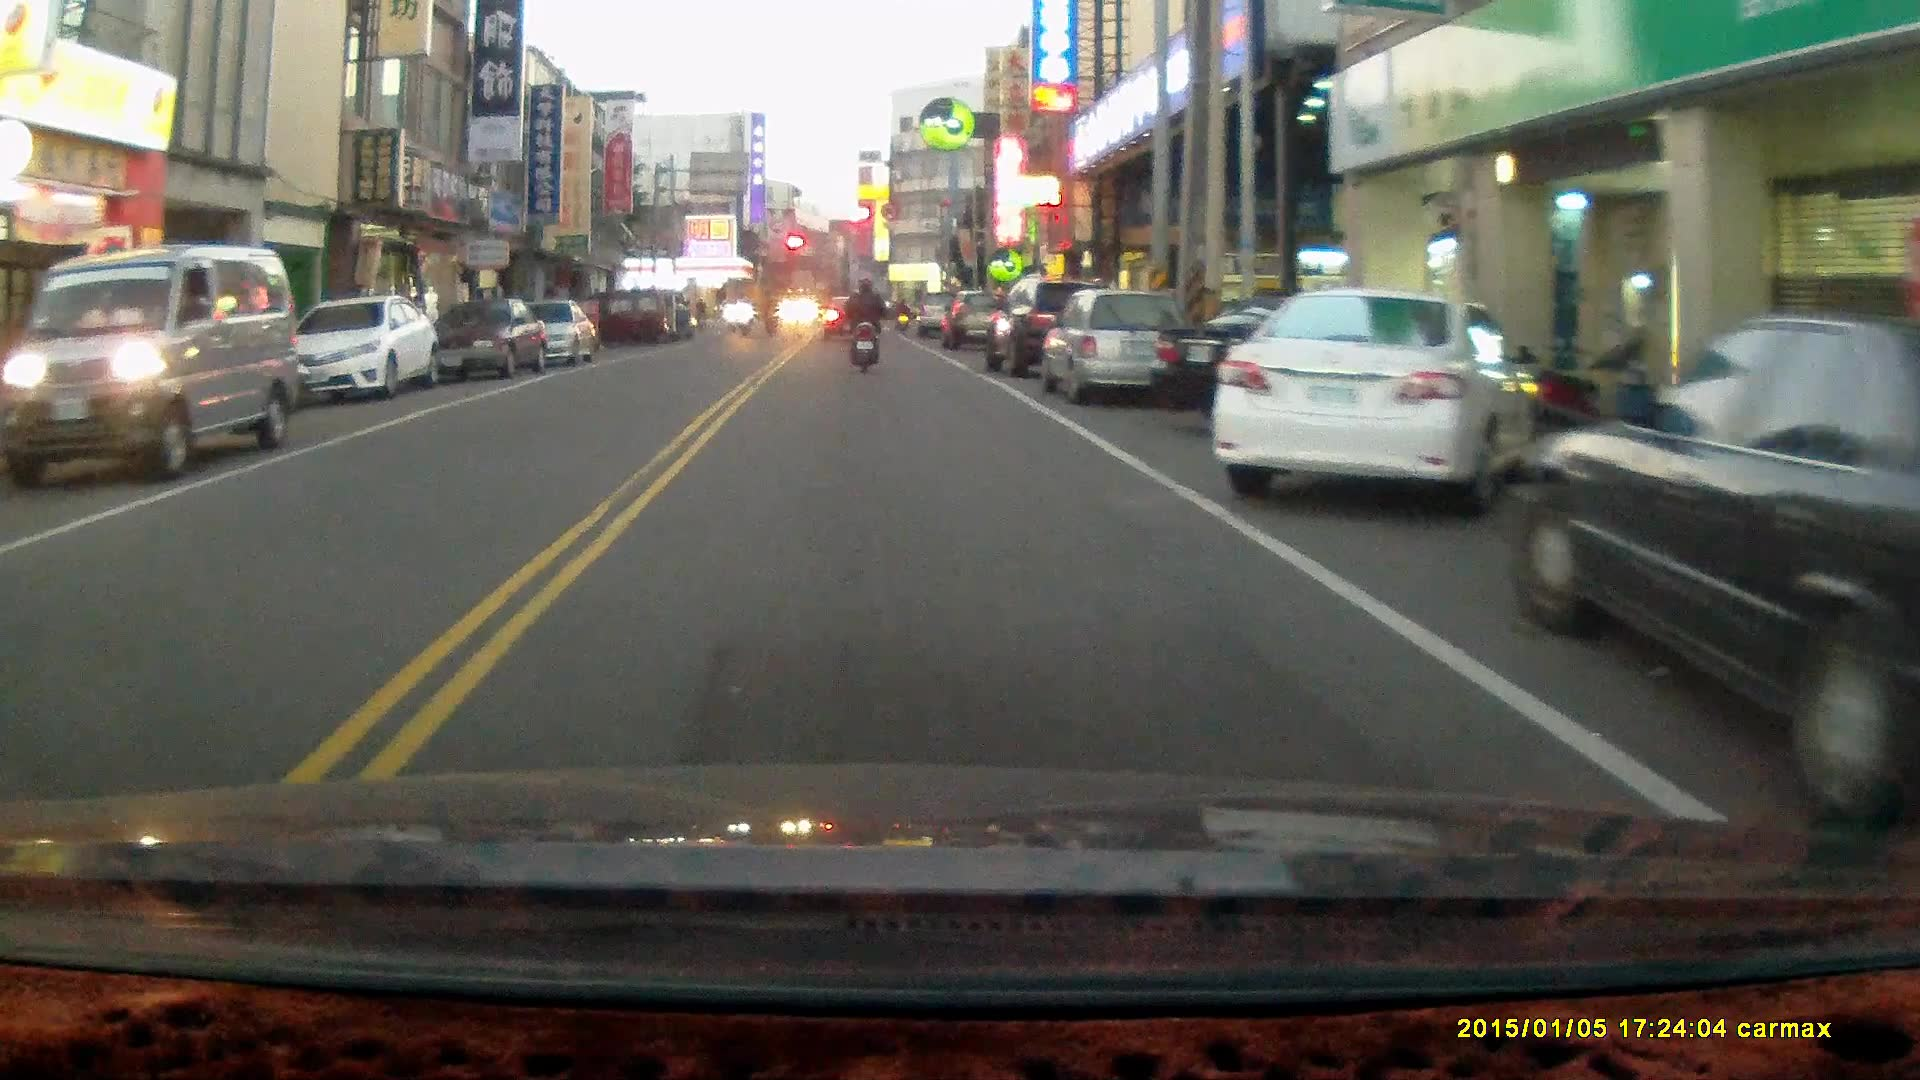rider: (843, 276, 887, 377), (731, 295, 754, 337)
vehicle: (1498, 313, 1920, 791), (1213, 290, 1535, 517), (6, 243, 304, 480), (1146, 297, 1481, 436), (1041, 289, 1198, 401), (285, 294, 439, 405), (980, 286, 1121, 377), (425, 297, 551, 384), (496, 301, 594, 374)
